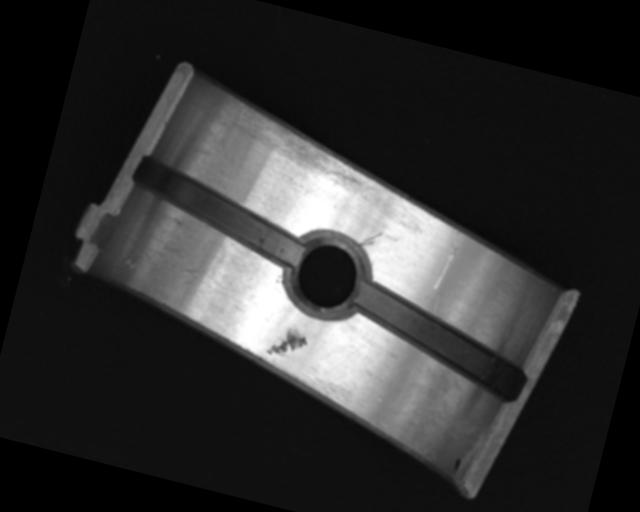blot: (451, 455, 462, 476)
bruise: (264, 320, 311, 362), (182, 263, 207, 280), (121, 256, 137, 271)
gap: (343, 279, 535, 401), (122, 155, 315, 264)
hole: (278, 224, 377, 322)
nick: (431, 224, 462, 293), (358, 227, 382, 249)
scratch: (218, 98, 394, 201)
